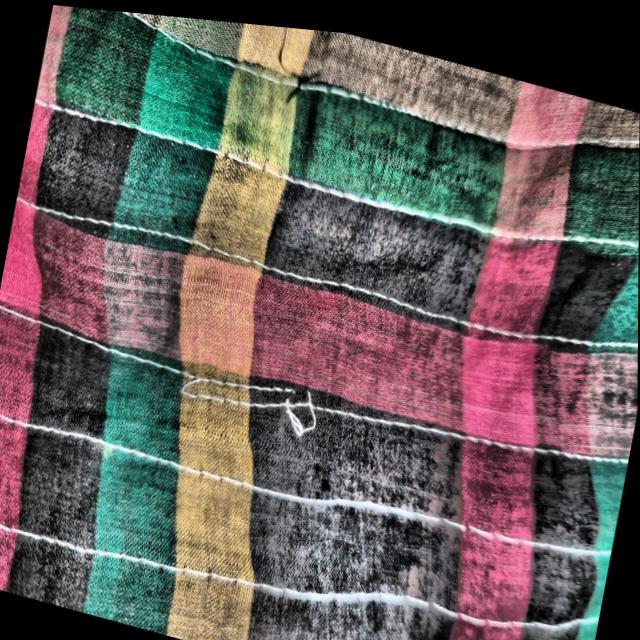Stitch: (143, 311, 354, 457)
